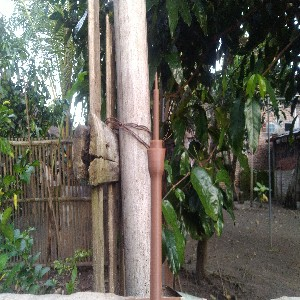solder: (146, 69, 167, 300)
